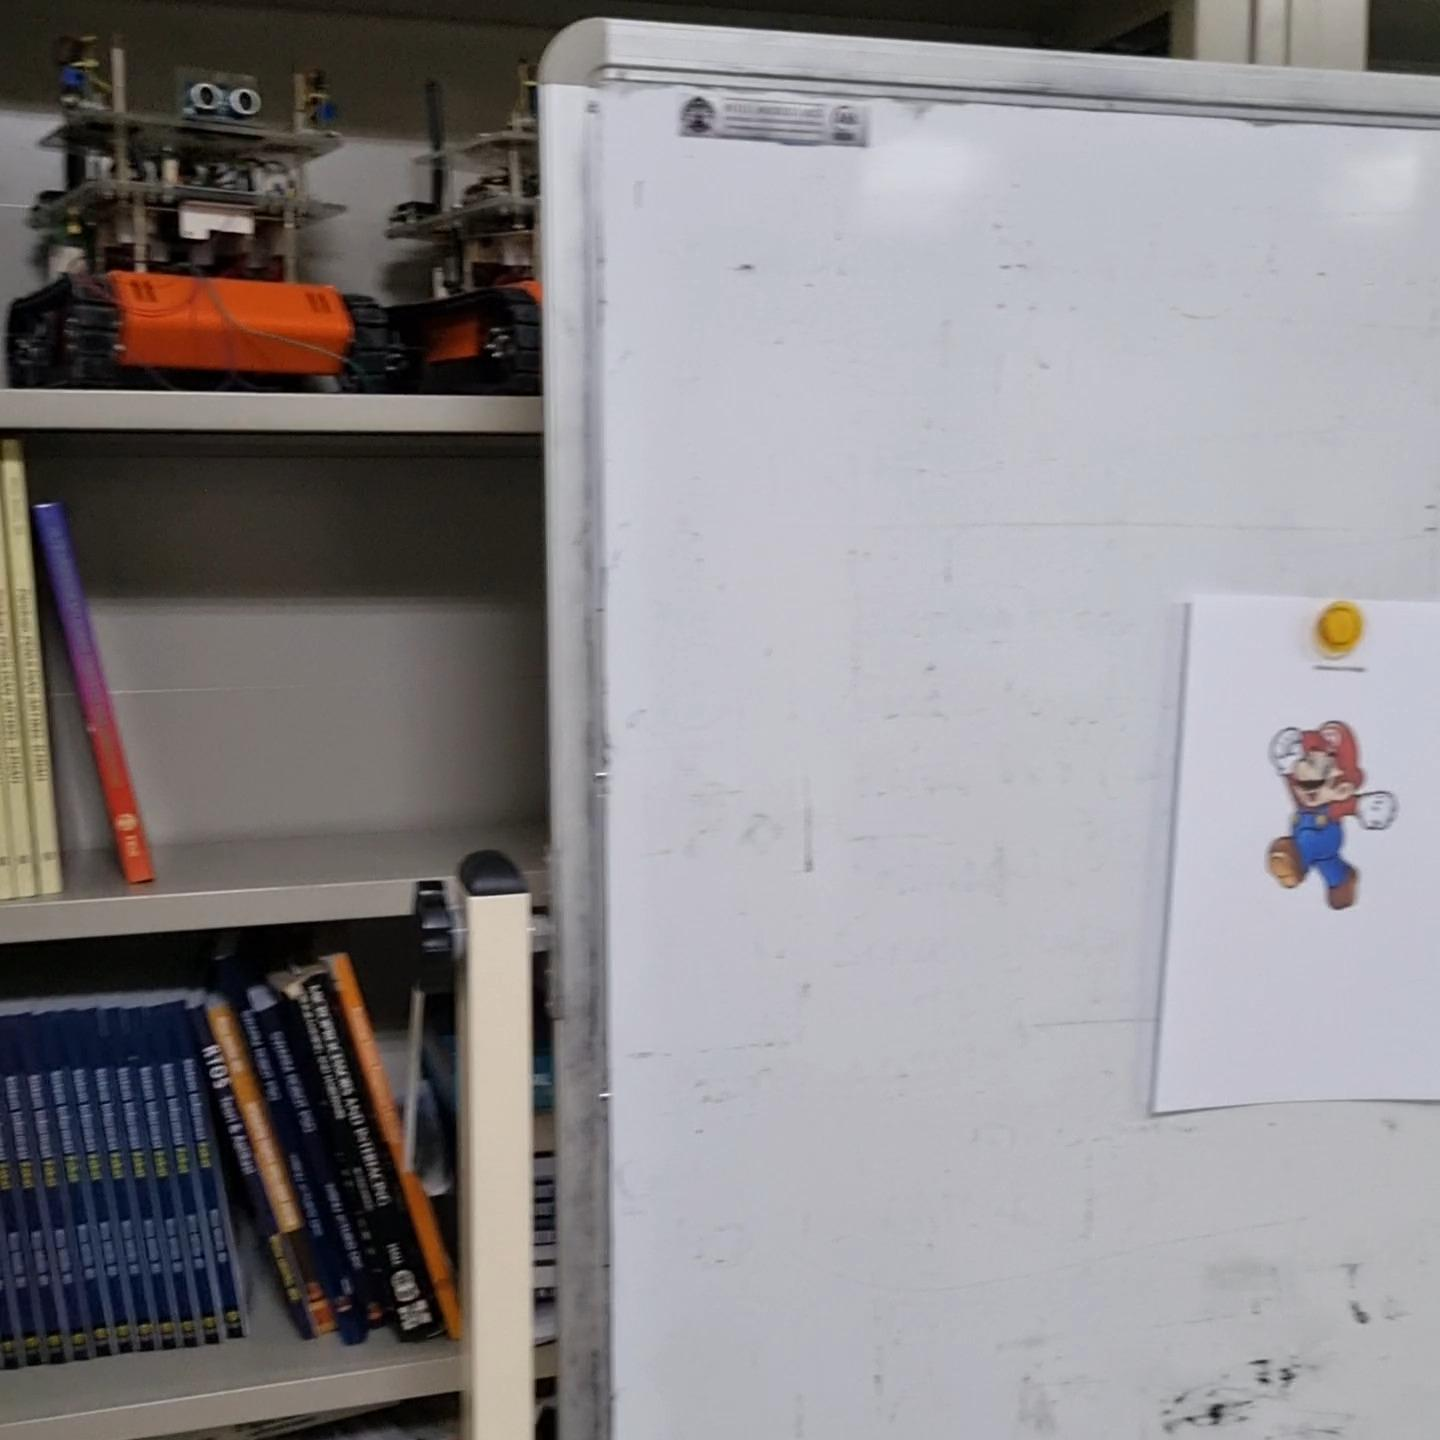mario: (1262, 702, 1400, 916)
